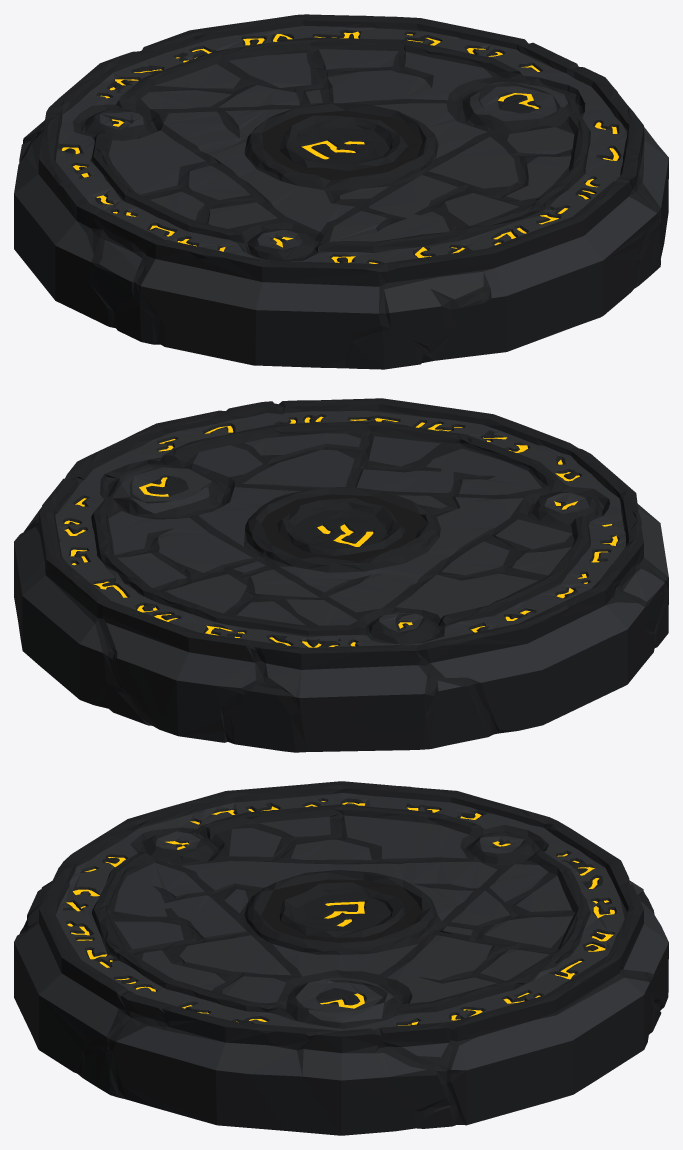
The model's file is pit_circle.gltf.
3 renders of one model, top to bottom at view 1: azimuth 30°, elevation 25°; view 2: azimuth 150°, elevation 25°; view 3: azimuth 270°, elevation 25°, orthographic.
Visible parts, largest first — view 1: pit_circle; view 2: pit_circle; view 3: pit_circle.
Part boxes in pixels (left/top/right/bottom): pit_circle: left=14, top=14, right=668, bottom=369; pit_circle: left=14, top=398, right=668, bottom=752; pit_circle: left=14, top=781, right=668, bottom=1135.
Bounding box in the file's own units: 15.23 × 2.35 × 15.23.
Materials: 1 (1 with a texture image).
